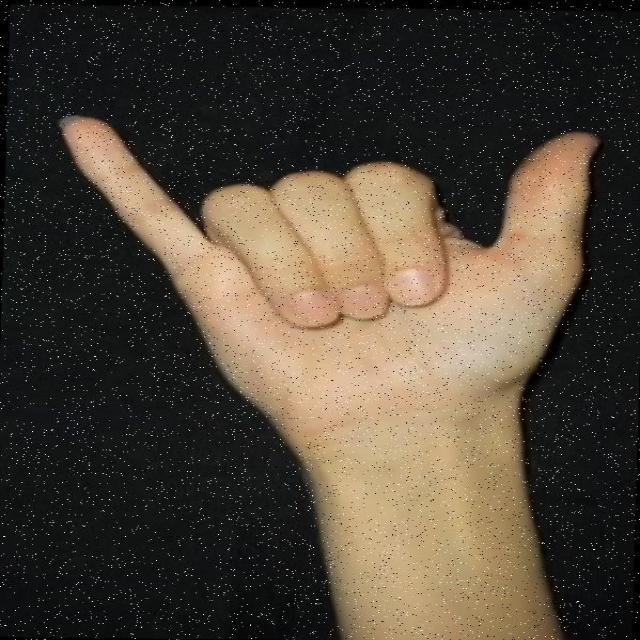Y: (35, 110, 615, 426)
